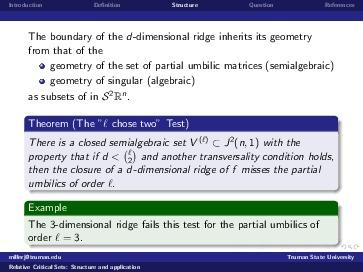paragraph: (24, 25, 349, 248)
subtitle: (24, 109, 203, 135), (23, 198, 74, 214)
